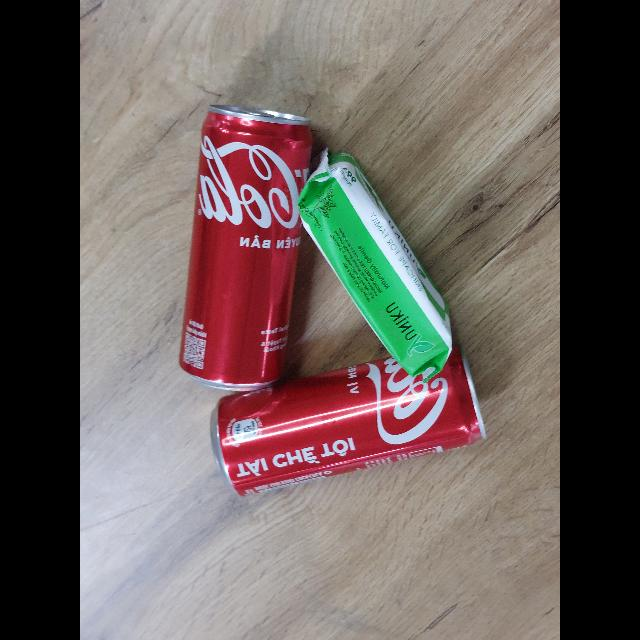coca_cola: (211, 345, 485, 496), (180, 107, 312, 390)
khan_giay: (298, 151, 452, 380)
